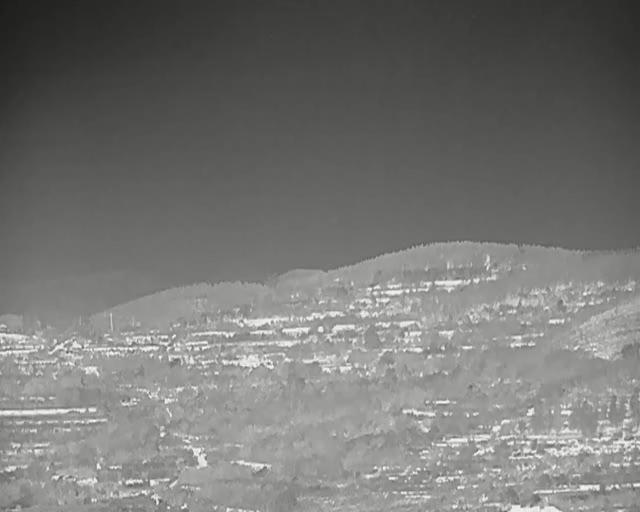uav: (322, 332, 334, 338)
